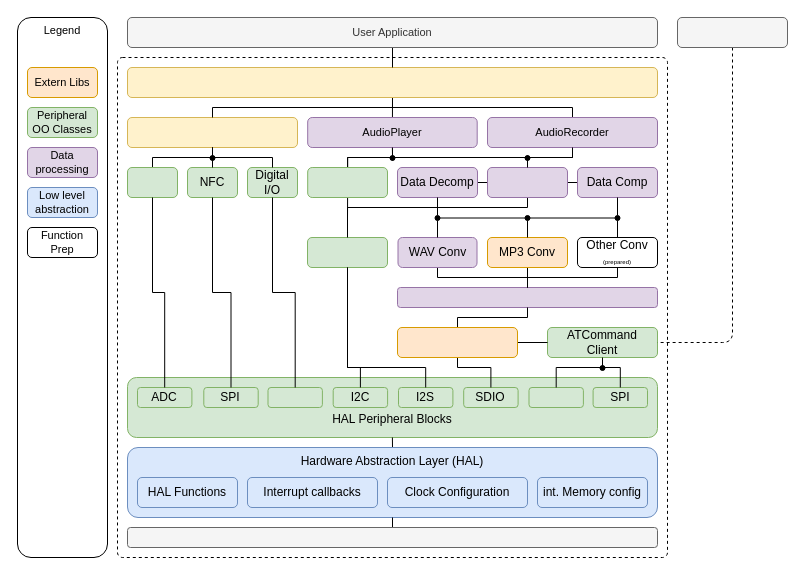
The diagram is 805 pixels wide and 575 high, and some of its shapes have lost their labels. Each missing label, with the centre of its shape:
"Analog In" goes at [152,182].
"Audio Codec" goes at [347,252].
"Audio Ctrl Function" goes at [347,182].
"BSP_VoiceMailBox.h Application interface" goes at [392,82].
"Data Streaming" goes at [527,182].
"FAT FS" goes at [457,342].
"File" goes at [527,297].
"generated processor specific files through STM32Cube" goes at [392,537].
"GPIO" goes at [294,397].
"Platform grouping peripheral instances" goes at [212,132].
"Server Application" goes at [732,32].
"UART" goes at [555,397].
